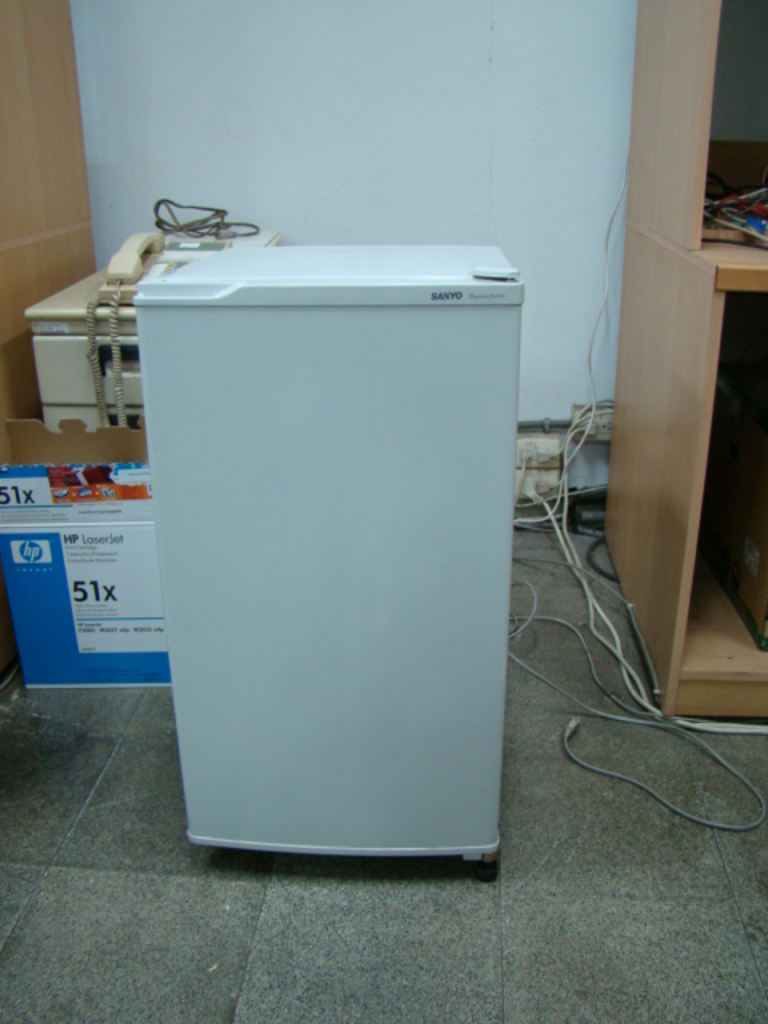handle: (139, 289, 231, 320)
refrigerator door: (149, 300, 495, 855)
